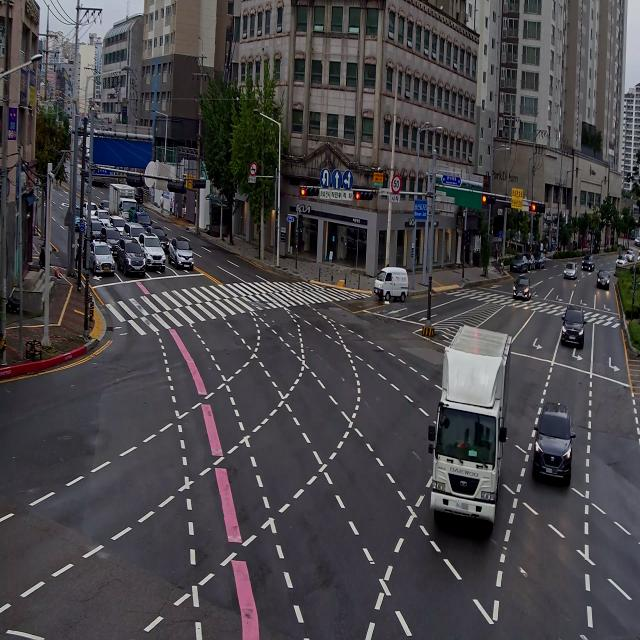Car: (529, 376, 586, 500), (369, 260, 419, 315), (560, 303, 589, 356), (117, 235, 147, 279), (140, 230, 167, 272), (86, 240, 113, 278), (170, 233, 194, 272), (146, 223, 169, 253), (122, 221, 146, 248), (512, 273, 534, 302), (101, 228, 122, 258), (109, 213, 127, 238), (509, 252, 528, 273), (563, 258, 578, 282), (580, 252, 595, 275), (88, 218, 104, 239), (596, 267, 610, 291), (72, 202, 83, 232), (82, 200, 98, 220), (532, 249, 546, 271), (96, 210, 110, 227), (522, 254, 536, 271), (134, 186, 146, 204), (615, 254, 627, 270), (624, 247, 636, 262), (98, 198, 110, 211)
Truck: (416, 318, 520, 538), (106, 179, 137, 223), (128, 204, 152, 234)
